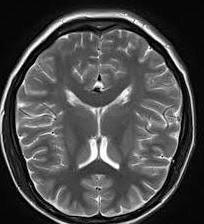Normal_Brain: (1, 1, 200, 224)
